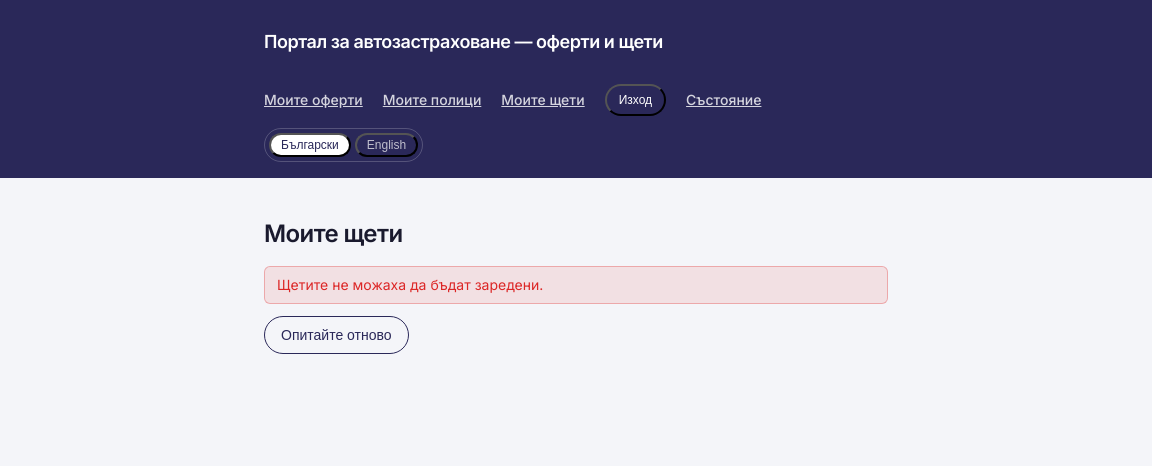
Scenario: MyClaims › shows the error state and a working retry on a failed load
Expected: the message "Щетите не можаха да бъдат заредени." is shown, top-left (264, 266), bottom-right (888, 304)
Click the button "Опитайте отново" at (336,335), box top-left (264, 316), bottom-right (409, 354)
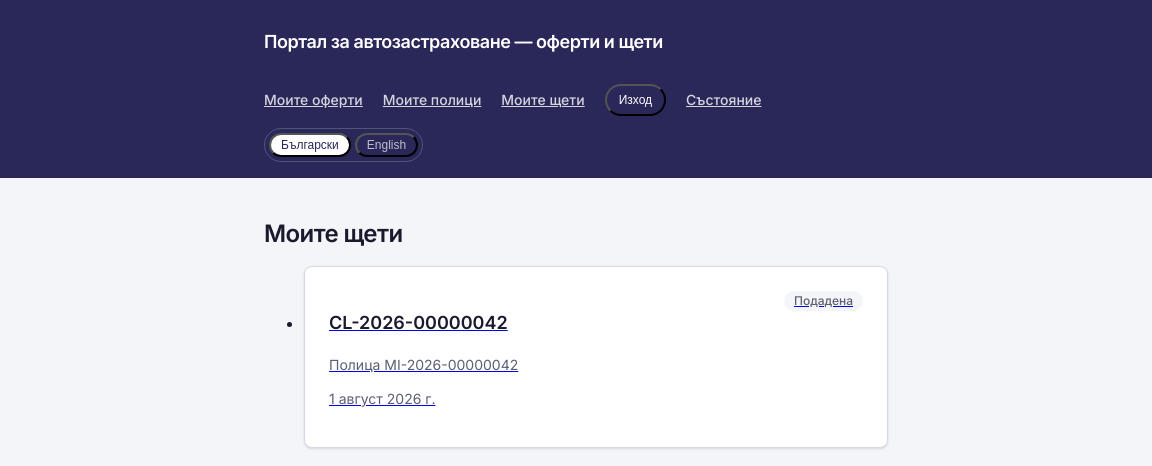
Expected: the link with test id "claim-row" is shown, top-left (304, 266), bottom-right (888, 448)
